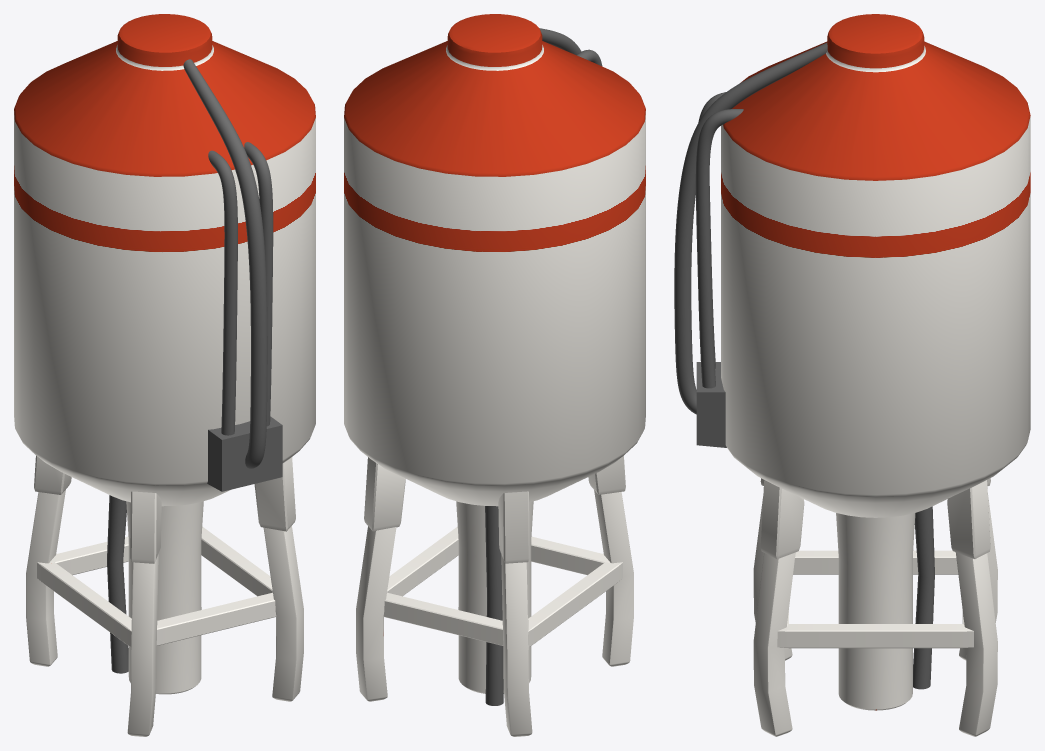
File: watertowerfinal.fbx
3 views of the same model, side by side, from view 1: azimuth 30°, elevation 25°; view 2: azimuth 150°, elevation 25°; view 3: azimuth 270°, elevation 25° (orthographic). The views are drawn at different scales.
Visible parts, largest first — view 1: Cylinder.003; view 2: Cylinder.003; view 3: Cylinder.003.
Part boxes in pixels (x1,y1,x2,y2): Cylinder.003: (14,14,315,736); Cylinder.003: (344,14,645,736); Cylinder.003: (674,14,1030,736).
Size of the model in its own units: 242 by 572 by 278.
